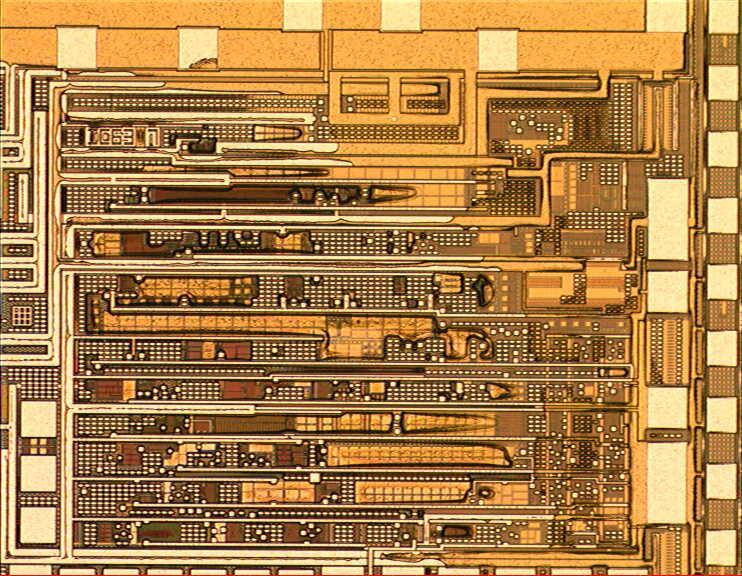COATING BAD: (83, 125, 651, 571)
